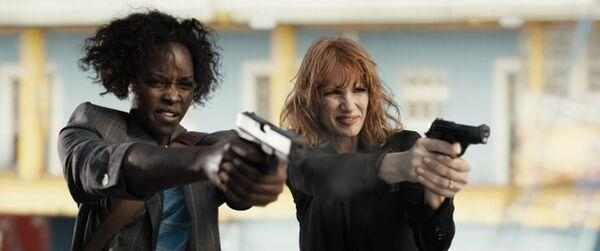Gun: (236, 109, 306, 168), (426, 117, 492, 157)
